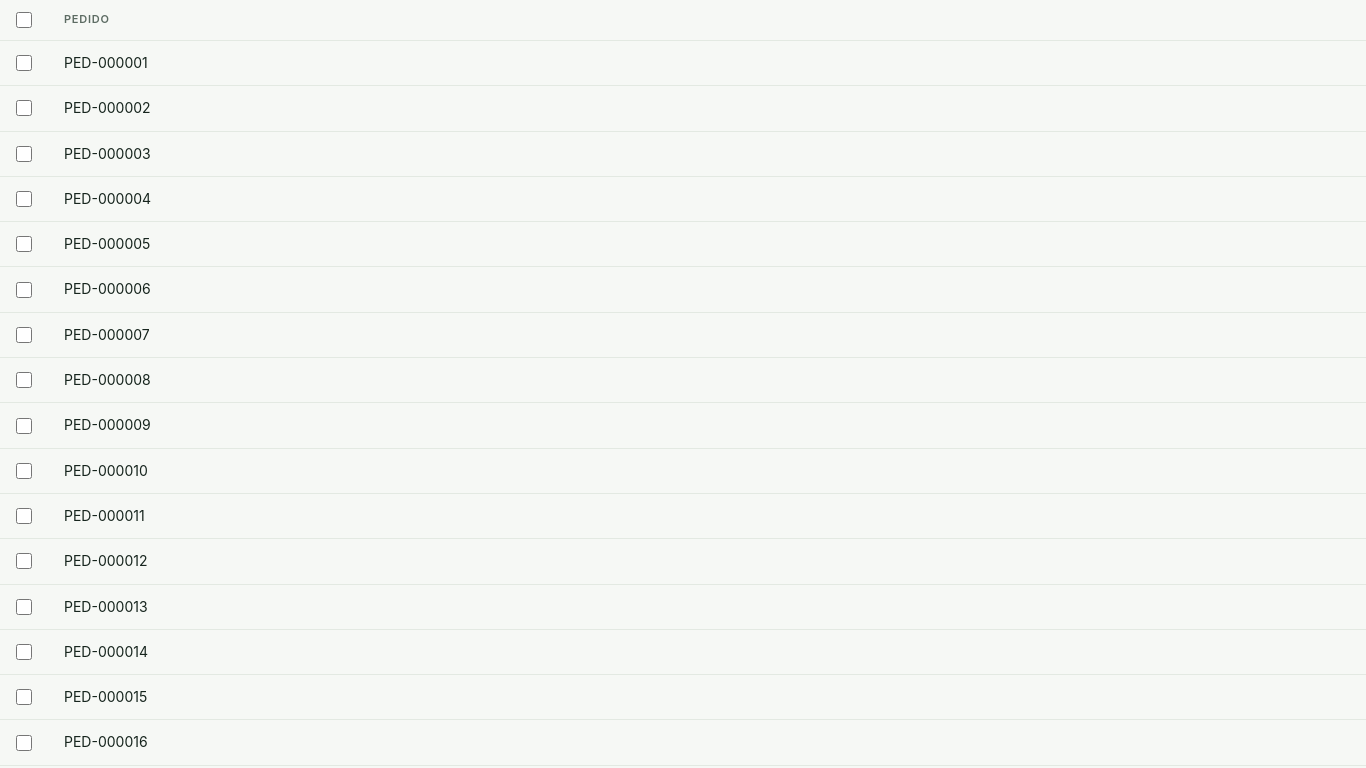
Test case: linha e página — modo ids › 1. marca uma linha: 1 selecionado, e o descritor leva o id
Click the checkbox named "Selecionar pedido PED-000002": click(24, 108) [16,100,32,116]
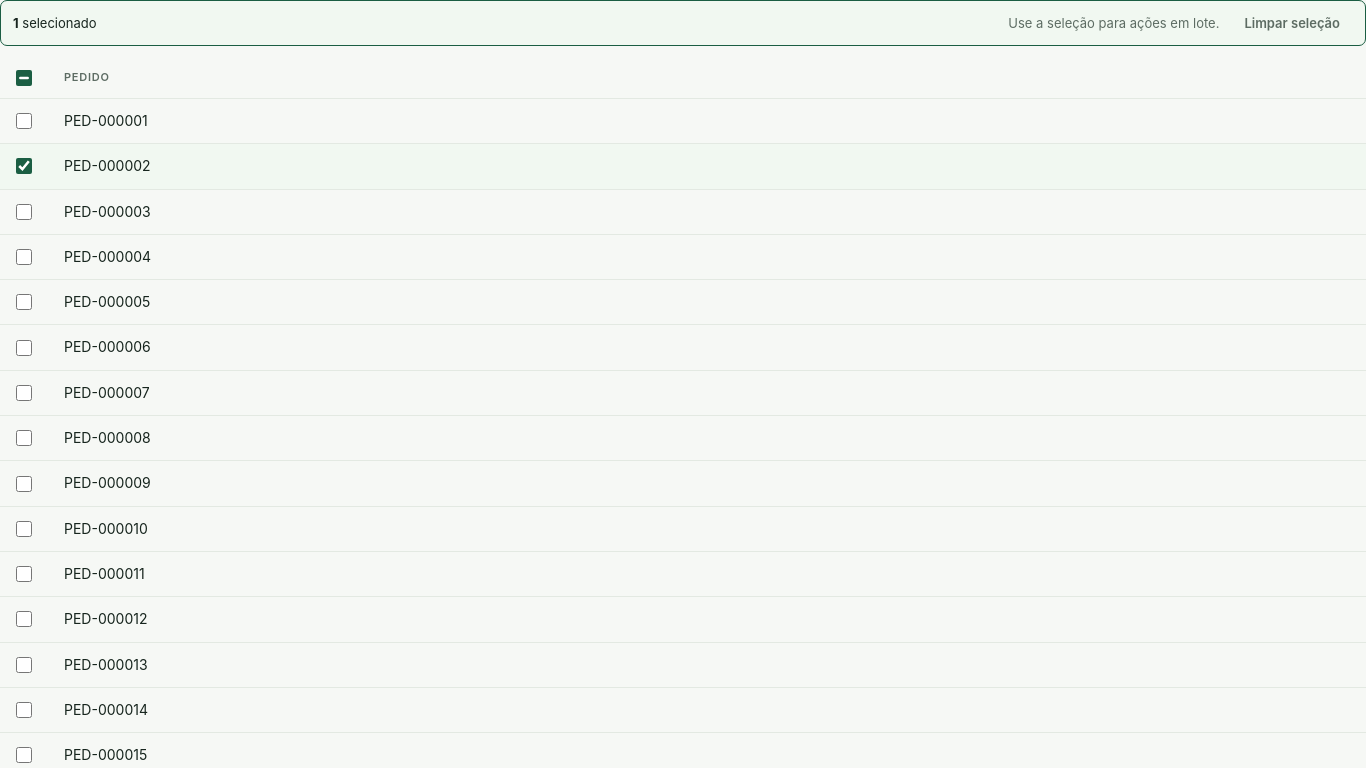
Check: the element with class "bulk-bar__count" reads "1 selecionado", box [13,14,96,32]
